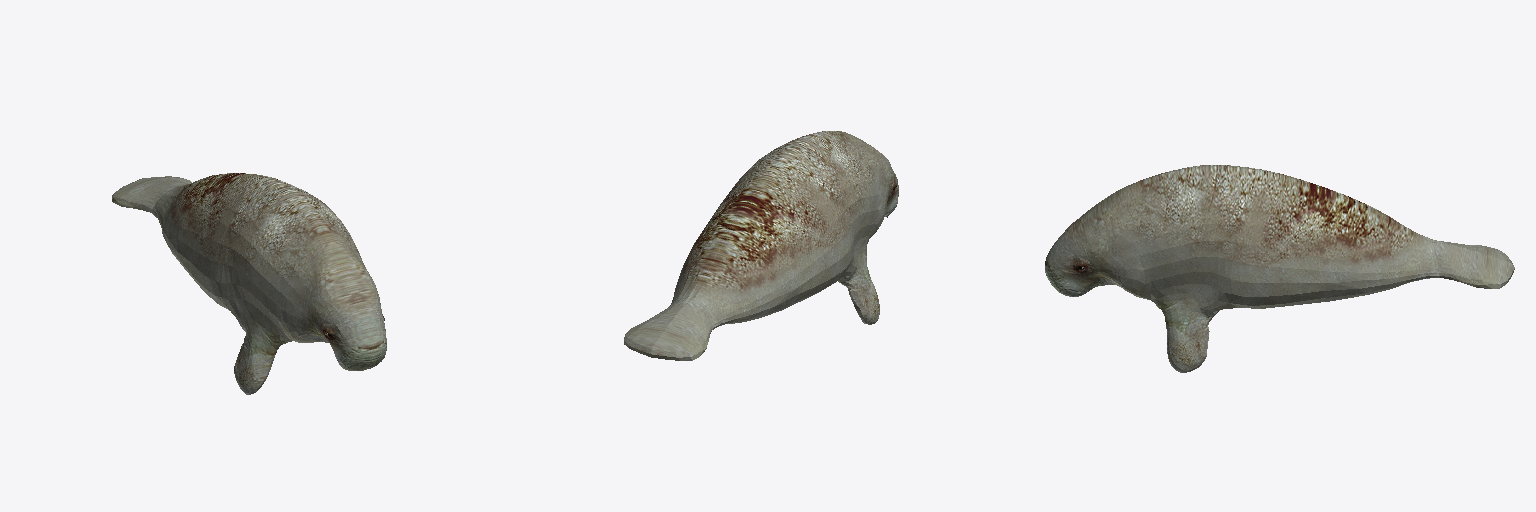
The picture shows the model from 3 angles: view 1: azimuth 30°, elevation 25°; view 2: azimuth 150°, elevation 25°; view 3: azimuth 270°, elevation 25°; orthographic projection.
Visible parts, largest first — view 1: mt1_body; view 2: mt1_body; view 3: mt1_body.
Part boxes in pixels (x1,y1,x2,y2): mt1_body: (112, 173, 386, 394); mt1_body: (624, 131, 898, 360); mt1_body: (1045, 165, 1514, 372).
Size of the model in its own units: 12 by 16.45 by 39.34.
2 materials, 1 textured.